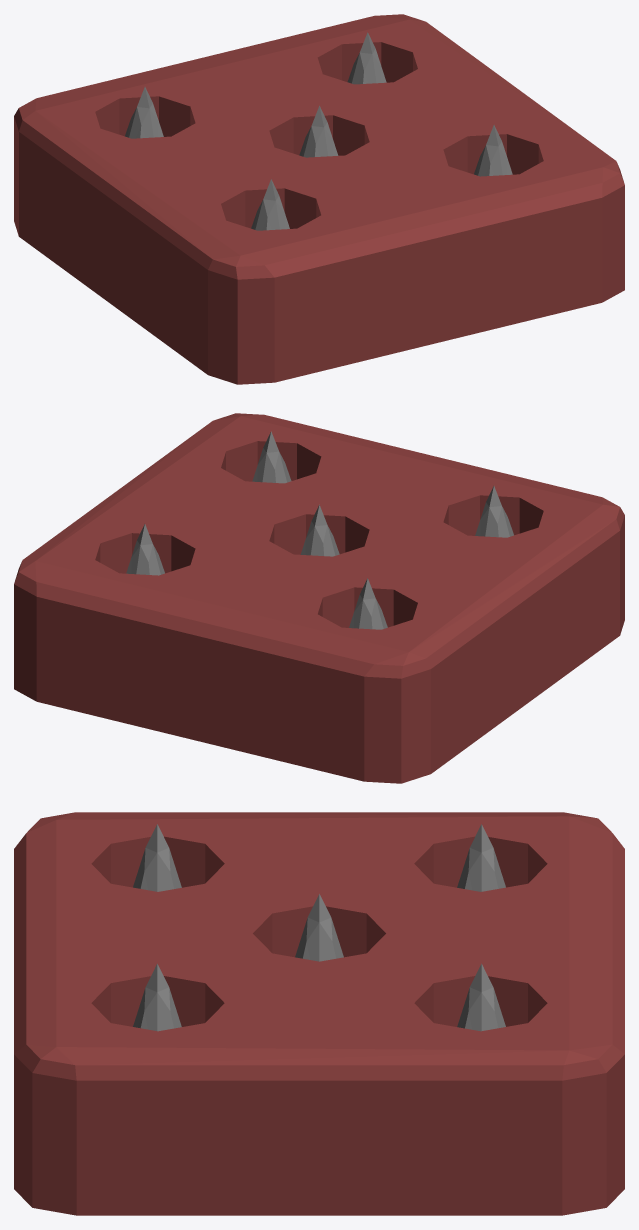
File: FloorTrap.fbx
3 views of the same model, one above another, from view 1: azimuth 30°, elevation 25°; view 2: azimuth 150°, elevation 25°; view 3: azimuth 270°, elevation 25° (orthographic). The views are drawn at different scales.
Parts seen in each view (by area): view 1: Hazard_SpikeTrap; view 2: Hazard_SpikeTrap; view 3: Hazard_SpikeTrap.
Part boxes in pixels (x1,y1,x2,y2): Hazard_SpikeTrap: (14,14,624,384); Hazard_SpikeTrap: (14,413,624,783); Hazard_SpikeTrap: (14,812,624,1215).
Size of the model in its own units: 200 by 69.68 by 200.
